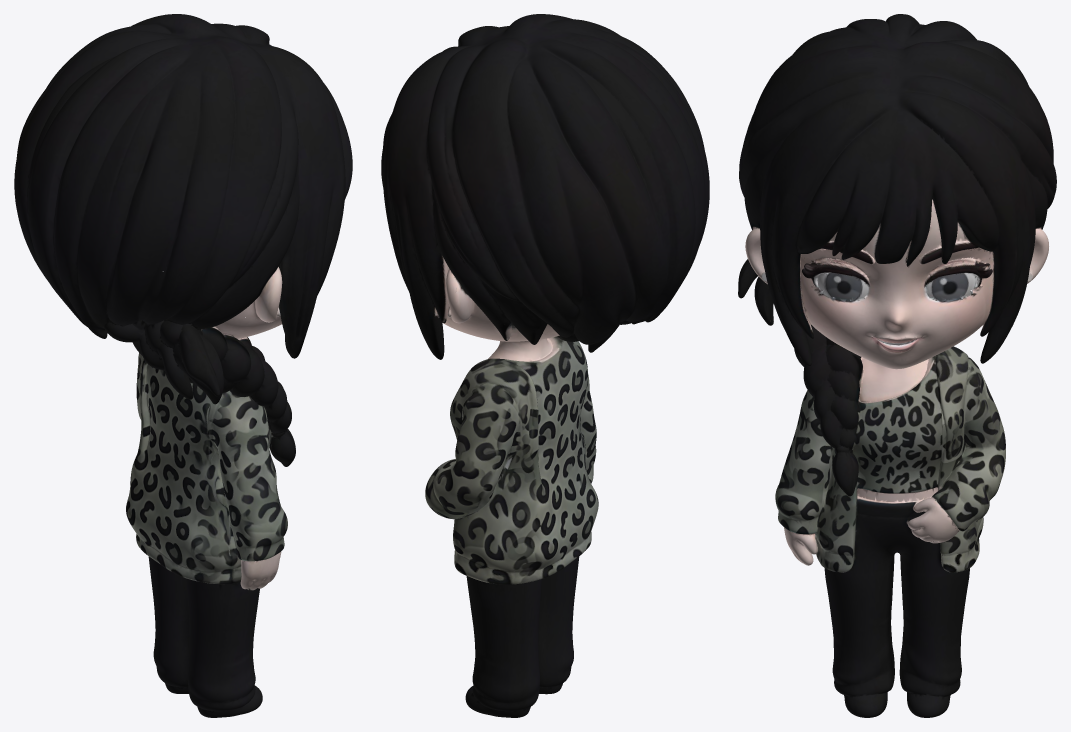
The model's file is cwh-model.glb.
The picture shows the model from 3 angles, left to right: view 1: azimuth 30°, elevation 25°; view 2: azimuth 150°, elevation 25°; view 3: azimuth 270°, elevation 25°; orthographic projection.
Visible parts, largest first — view 1: tripo_node_8fca81a5-150e-41e9-a00c-274523289e23; view 2: tripo_node_8fca81a5-150e-41e9-a00c-274523289e23; view 3: tripo_node_8fca81a5-150e-41e9-a00c-274523289e23.
Boxes of the visible parts, x1,y1,x2,y2 form: tripo_node_8fca81a5-150e-41e9-a00c-274523289e23: (14,14,352,717); tripo_node_8fca81a5-150e-41e9-a00c-274523289e23: (381,14,709,717); tripo_node_8fca81a5-150e-41e9-a00c-274523289e23: (738,14,1056,717).
Bounding box in the file's own units: 0.4451 × 0.9794 × 0.4309.
1 material, 1 textured.
